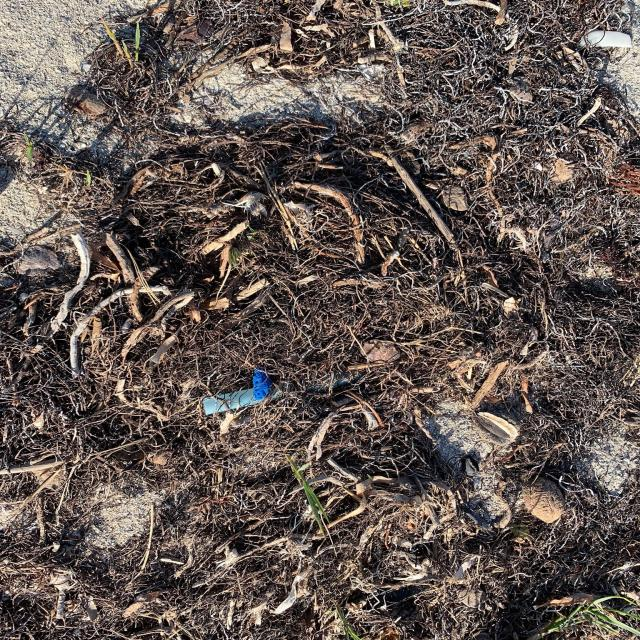litter: (201, 368, 266, 414)
